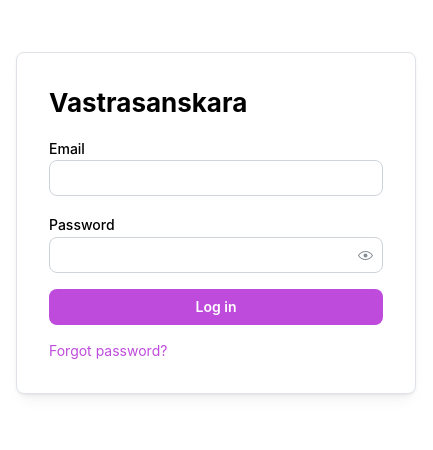
shows friendly error on bad credentials
The width and height of the screenshot is (433, 450).
Type "a@b.c" into the field labelled "Email" at (216, 178), box [49, 160, 383, 196]
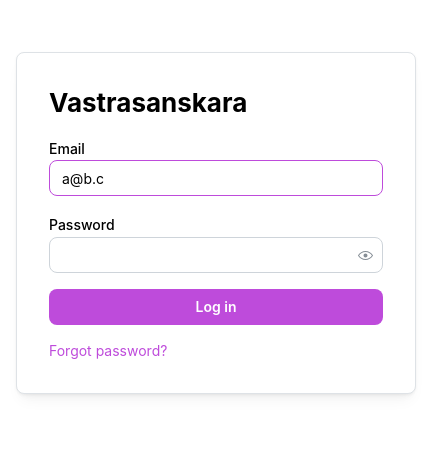
Type "wrong-pass-1" into the password field labelled "Password" at (216, 255), box [50, 238, 382, 272]
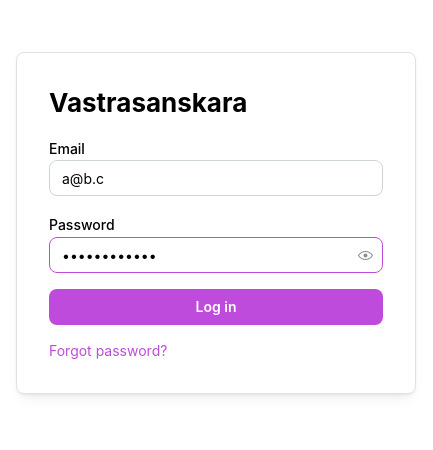
Click the button "Log in" at (216, 307), box [49, 289, 383, 325]
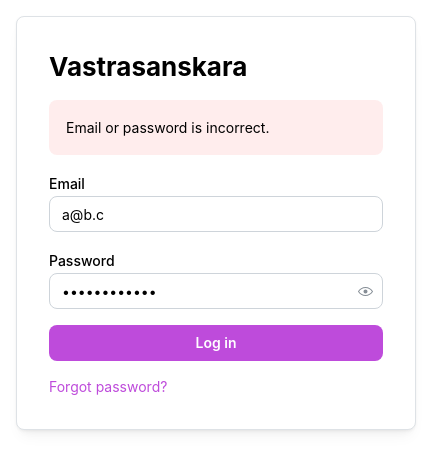
Expected: the text "Email or password is incorrect." is shown, [66, 119, 269, 136]
